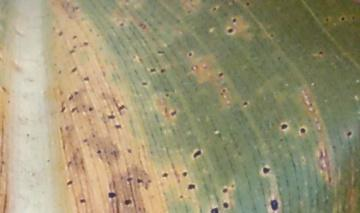tarspot: (270, 199, 278, 212), (262, 166, 271, 175), (187, 181, 196, 190), (193, 149, 201, 159), (161, 169, 169, 179), (108, 191, 118, 199), (70, 105, 79, 113), (117, 103, 126, 111), (158, 66, 167, 74), (225, 26, 234, 34), (136, 176, 145, 184), (157, 48, 167, 55), (123, 198, 133, 205), (299, 126, 307, 134), (65, 178, 73, 186), (113, 123, 122, 130), (125, 175, 134, 182), (81, 75, 91, 81), (209, 207, 219, 213), (56, 29, 63, 37), (69, 47, 76, 55), (73, 89, 80, 97), (118, 21, 126, 28), (149, 66, 157, 73), (169, 108, 176, 116), (180, 170, 188, 177), (329, 143, 337, 150), (81, 40, 90, 46), (107, 113, 116, 119), (140, 81, 149, 87), (68, 94, 75, 101), (268, 32, 275, 39), (242, 100, 249, 107), (281, 123, 288, 130), (70, 66, 78, 72), (57, 67, 63, 75), (60, 105, 66, 113), (95, 149, 103, 155), (318, 48, 324, 56), (221, 187, 229, 193), (79, 197, 87, 203), (278, 135, 284, 143), (276, 54, 282, 62), (218, 69, 223, 78), (71, 33, 78, 39), (187, 50, 193, 57), (211, 6, 218, 12), (350, 14, 356, 21), (223, 202, 229, 209), (186, 8, 192, 15), (179, 192, 184, 200), (82, 137, 88, 143), (245, 1, 251, 7), (229, 183, 235, 189), (89, 105, 94, 112), (127, 147, 132, 154), (325, 17, 330, 24), (165, 92, 170, 98), (232, 16, 237, 22), (347, 131, 352, 137), (340, 16, 346, 21), (222, 87, 226, 94)
